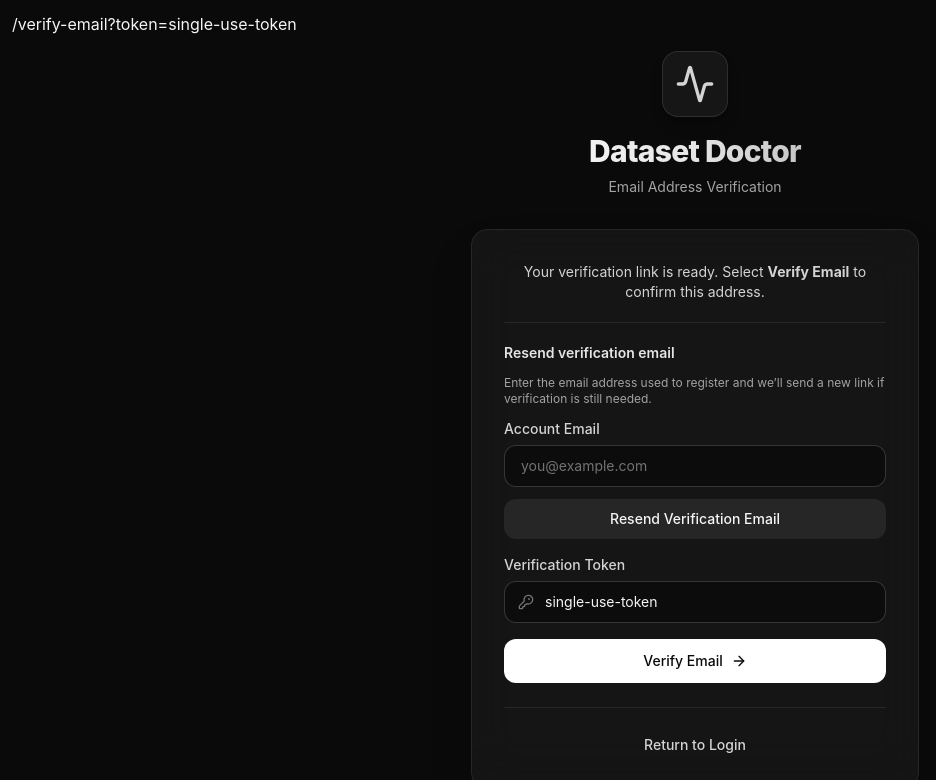
Scenario: Frontend Authentication - Pages & Route Guards › does not consume a verification token merely by opening its page under StrictMode
Expected: the text "Your verification link is ready" is shown, 524,263 -> 768,280
Step 1. Click the button "Verify Email" → (695, 661), box 504,639 -> 886,683
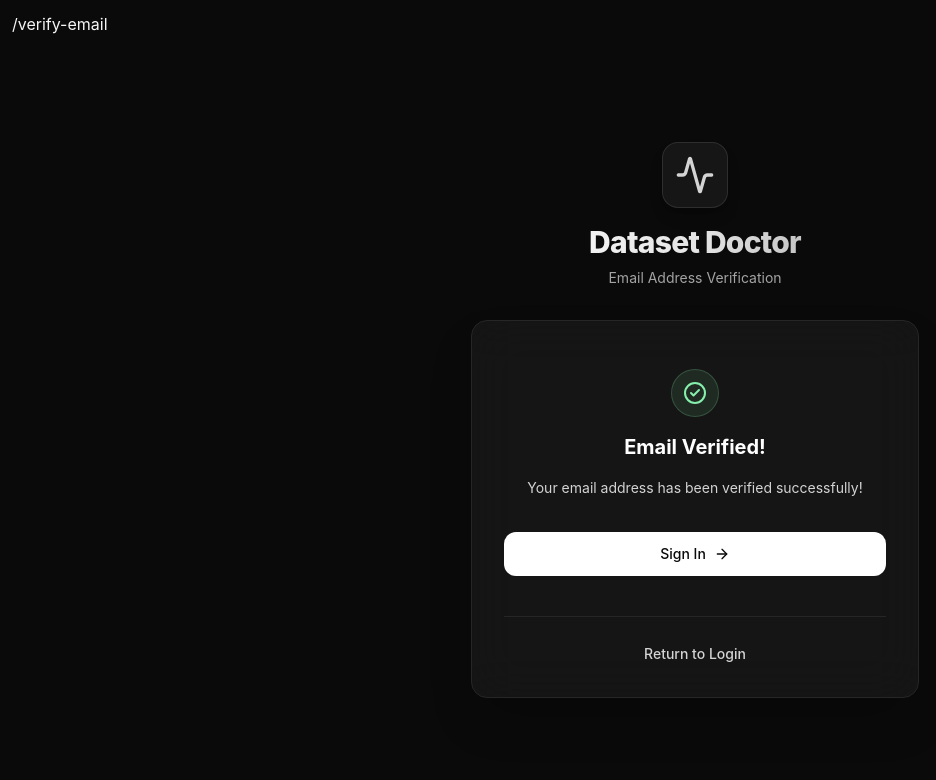
Now the heading "Email Verified!" is shown, box 624,435 -> 766,459
